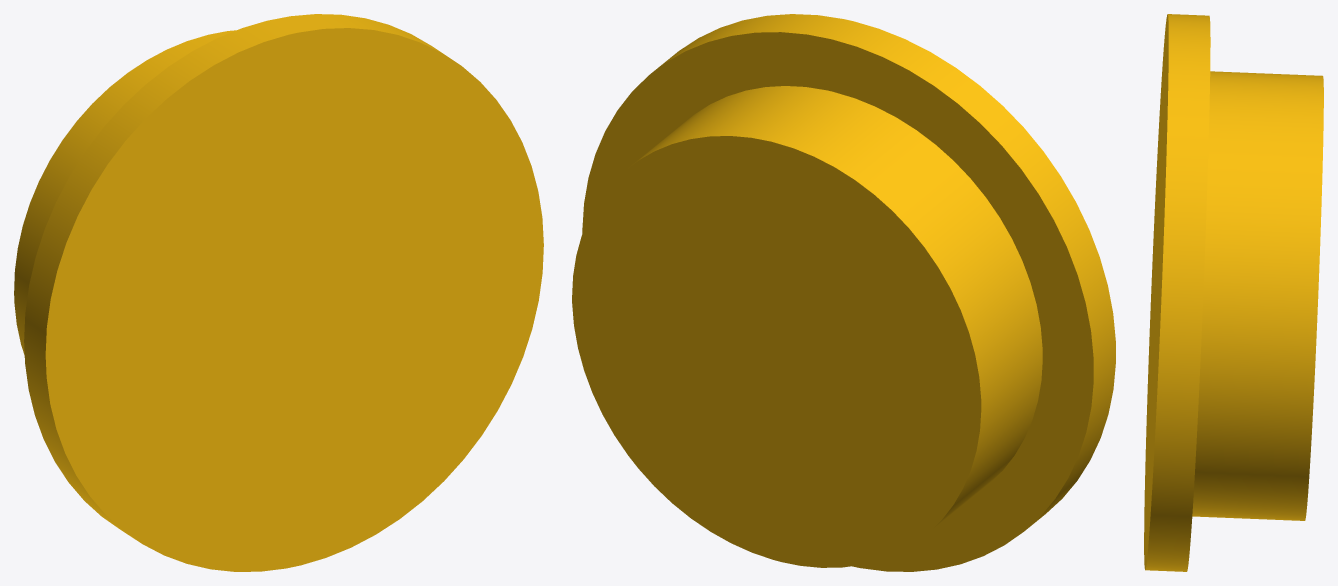
The model's file is Takmak - Left Reset Button.glb.
The picture shows the model from 3 angles, left to right: view 1: azimuth 30°, elevation 25°; view 2: azimuth 150°, elevation 25°; view 3: azimuth 270°, elevation 25°; orthographic projection. The views are drawn at different scales.
Visible parts, largest first — view 1: Left Reset Button; view 2: Left Reset Button; view 3: Left Reset Button.
Part boxes in pixels (box(x1,y1,x2,y2)): Left Reset Button: box(14, 14, 543, 571); Left Reset Button: box(572, 14, 1115, 571); Left Reset Button: box(1144, 14, 1323, 571).
Size of the model in its own units: 0.012 by 0.012 by 0.00388.
